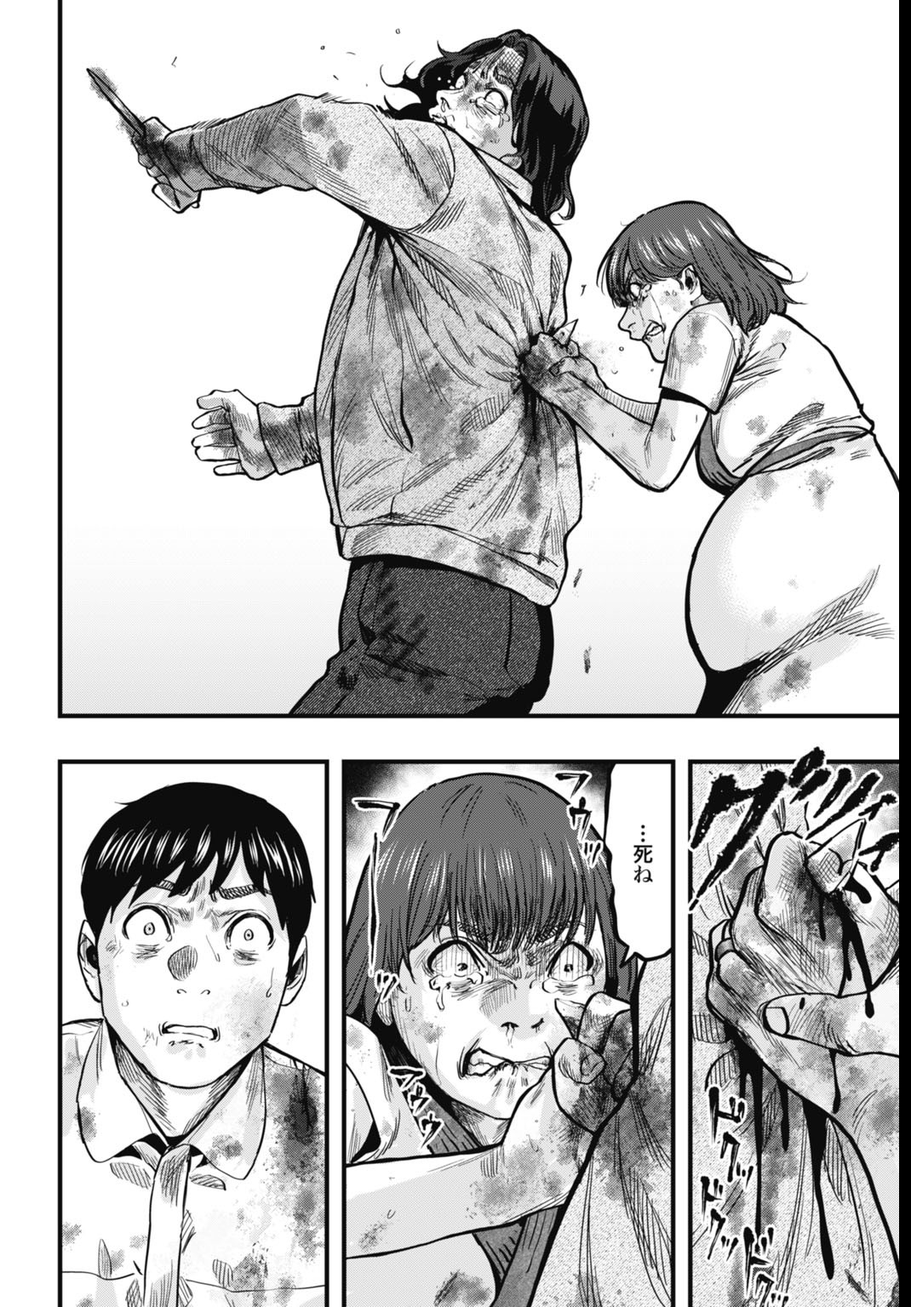bubbles: (598, 758, 674, 978)
